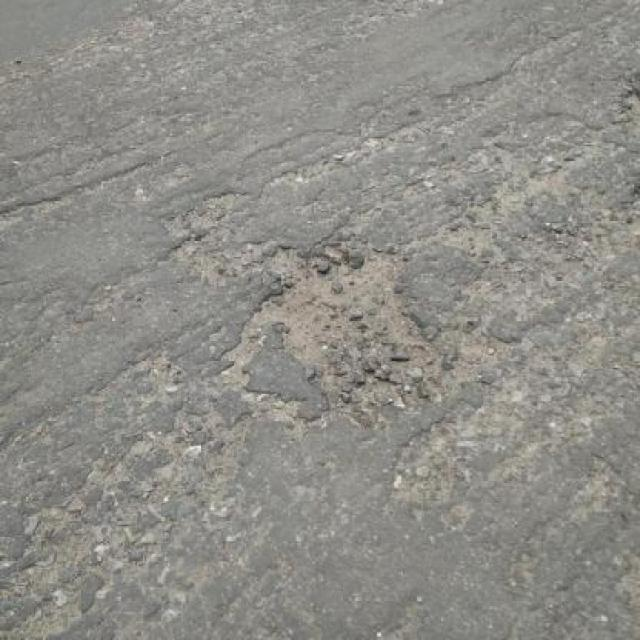Pothole: (242, 234, 440, 415)
